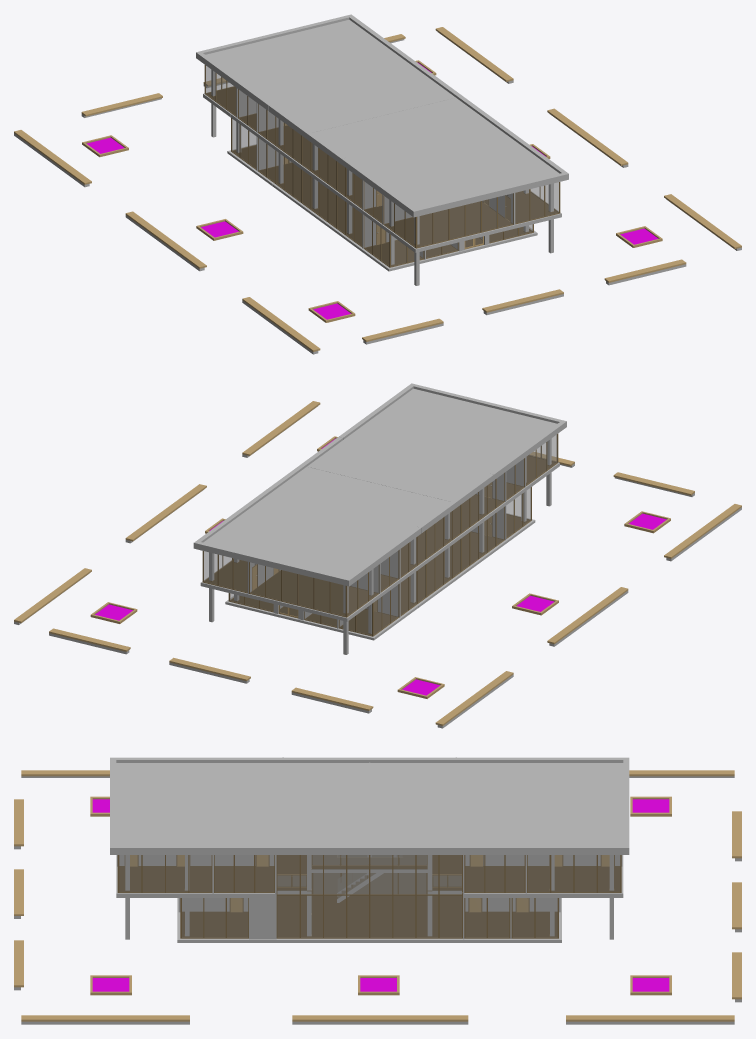
The model's file is Office_Building_02.fbx.
The picture shows the model from 3 angles, top to bottom: view 1: azimuth 30°, elevation 25°; view 2: azimuth 150°, elevation 25°; view 3: azimuth 270°, elevation 25°; orthographic projection. The views are drawn at different scales.
Visible parts, largest first — view 1: Roof, GlassPanesOutisde, Floor, ExteriorWalls, Frame, InteriorWalls, B_09, B_08, B_10, B_12, B_01, B_11 (+4 smaller); view 2: Roof, GlassPanesOutisde, Floor, ExteriorWalls, Frame, InteriorWalls, B_09, B_10, B_08, B_12, B_11, B_01 (+4 smaller); view 3: Roof, GlassPanesOutisde, Floor, ExteriorWalls, InteriorWalls, Frame, GlassPanesInside, B_12, B_01, B_11, B_10, Ceilings (+12 smaller).
Part boxes in pixels (x1,y1,x2,y2): Roof: (205,19,559,208); GlassPanesOutisde: (206,66,558,266); Floor: (206,87,558,266); ExteriorWalls: (196,14,568,285); Frame: (204,65,560,267); InteriorWalls: (211,69,553,264); B_09: (125,211,206,271); B_08: (242,297,320,354); B_10: (14,130,91,187); B_12: (547,108,628,167); B_01: (435,27,513,83); B_11: (664,194,741,250); Roof: (203,388,557,577); GlassPanesOutisde: (204,435,556,635); Floor: (204,456,556,635); ExteriorWalls: (193,383,566,654); Frame: (202,434,558,636); InteriorWalls: (209,438,551,633); B_09: (547,587,628,646); B_10: (435,671,513,728); B_08: (664,504,741,561); B_12: (125,484,206,543); B_11: (242,401,320,457); B_01: (14,568,91,624); Roof: (116,762,623,845); GlassPanesOutisde: (119,855,619,937); Floor: (119,855,620,937); ExteriorWalls: (110,757,629,942); InteriorWalls: (119,855,620,936); Frame: (117,855,621,938); GlassPanesInside: (277,855,461,898); B_12: (292,1015,468,1024); B_01: (566,1015,734,1024); B_11: (21,1015,189,1024); B_10: (629,770,734,777); Ceilings: (277,869,461,894).
Size of what is drawn, in the model's own units: 3864 by 706 by 4767.
